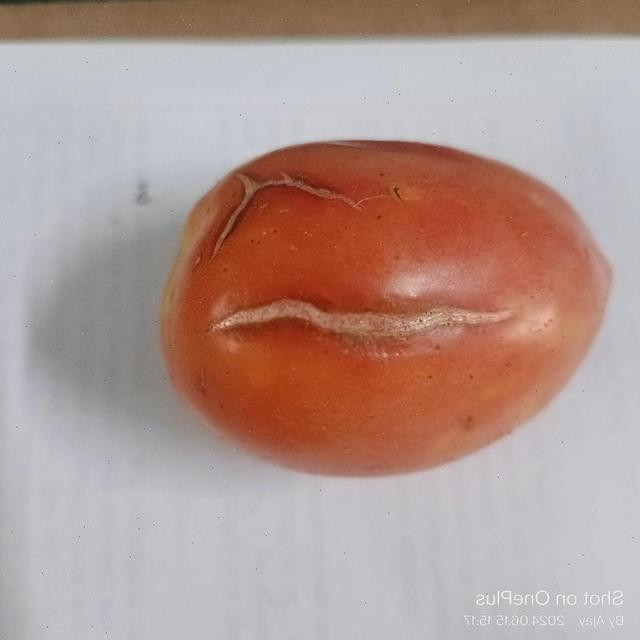Cracking Fruit: (82, 23, 244, 215)
